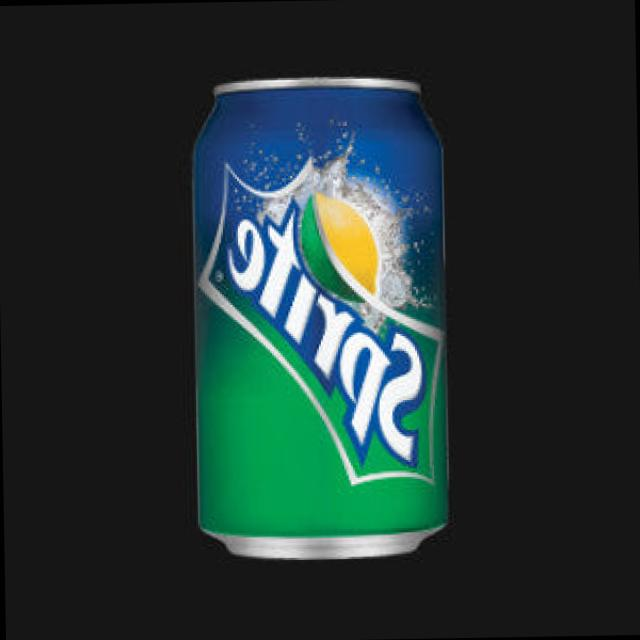sprite: (157, 66, 466, 584)
